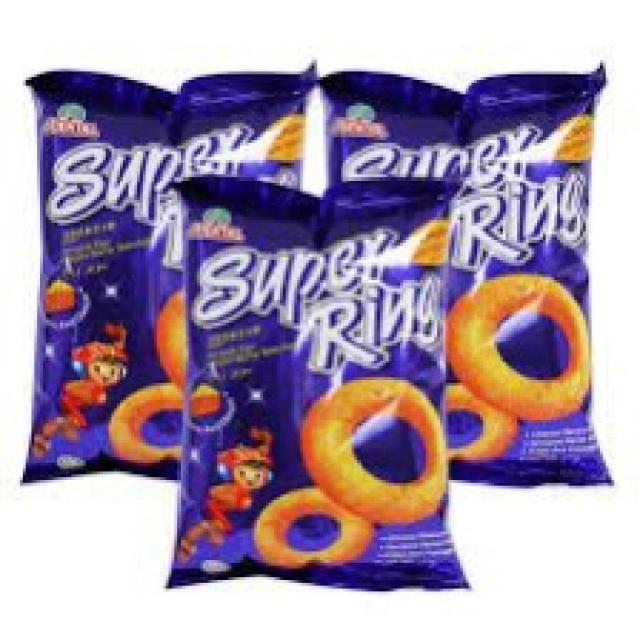plastic: (163, 180, 470, 610), (36, 90, 313, 477)
